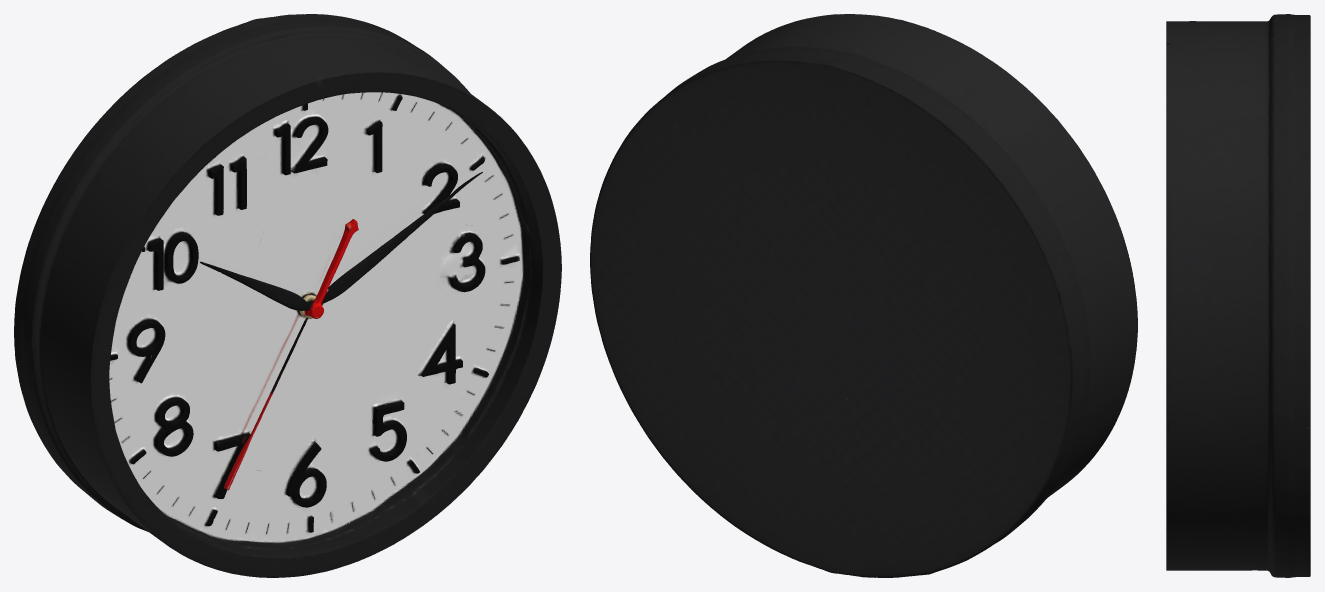
Rendered from myclock.glb.
3 views of the same model, side by side, from view 1: azimuth 30°, elevation 25°; view 2: azimuth 150°, elevation 25°; view 3: azimuth 270°, elevation 25° (orthographic).
Bounding box in the file's own units: 1.9 × 1.9 × 0.4841.
Materials: 1 (1 with a texture image).
